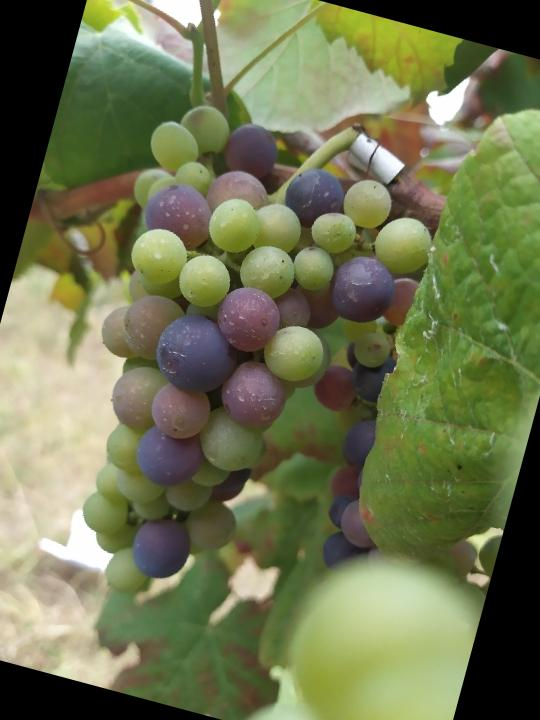grape: (27, 89, 463, 653)
